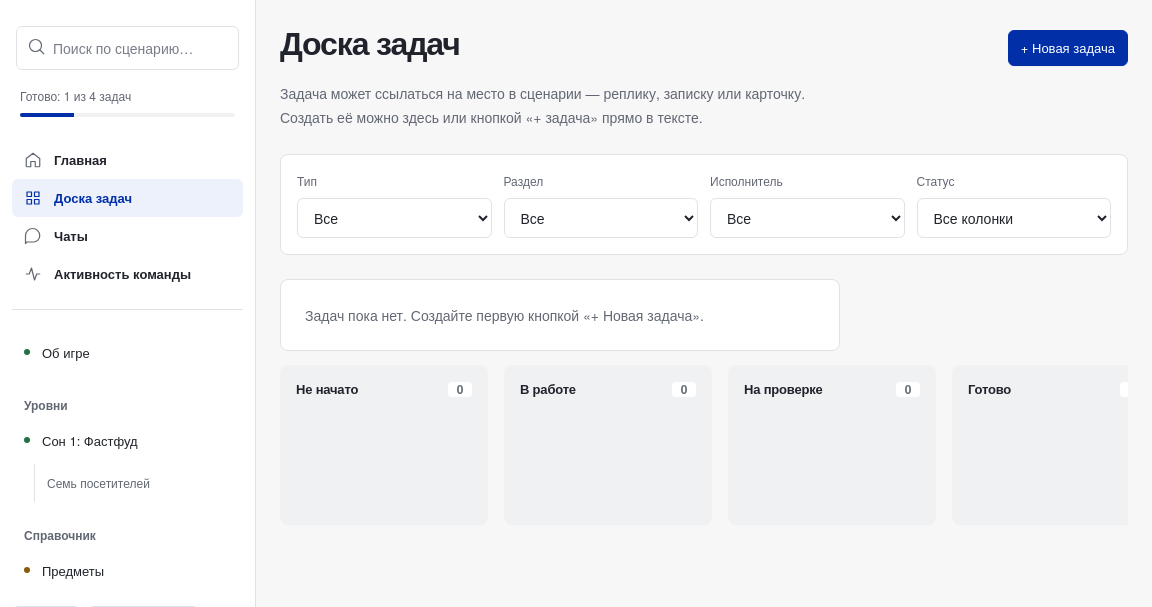
Scenario: TasksPage › creates a task with a description and an assignee
Click the button "+ Новая задача" at (1068, 48), box [1008, 30, 1128, 66]
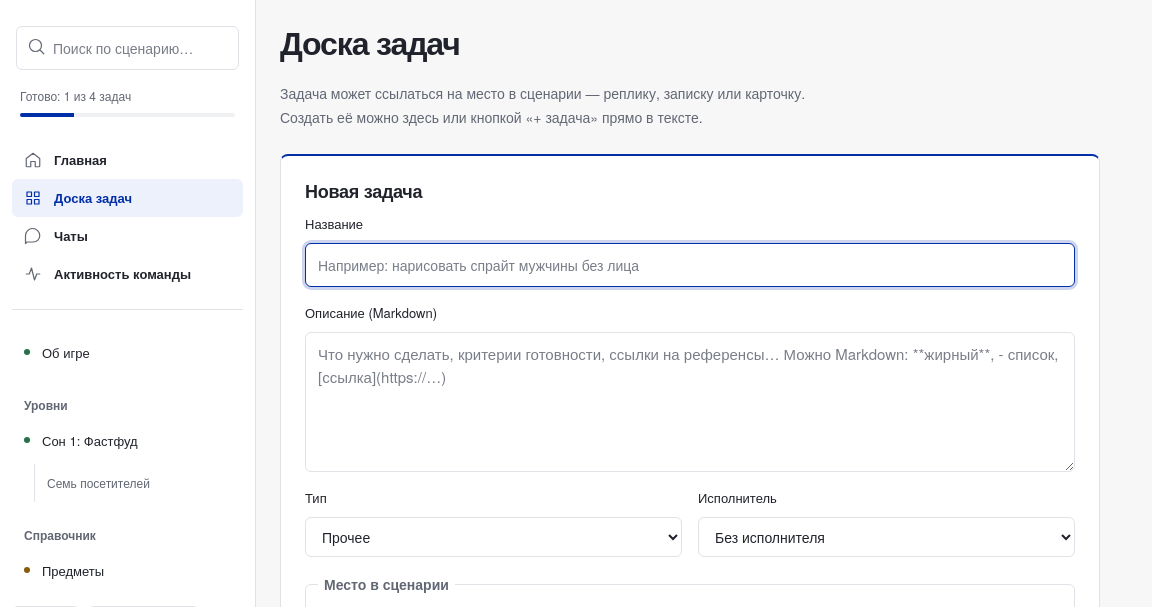
Type "Озвучить клоуна" into the field labelled "Название" at (690, 265), box [305, 243, 1075, 287]
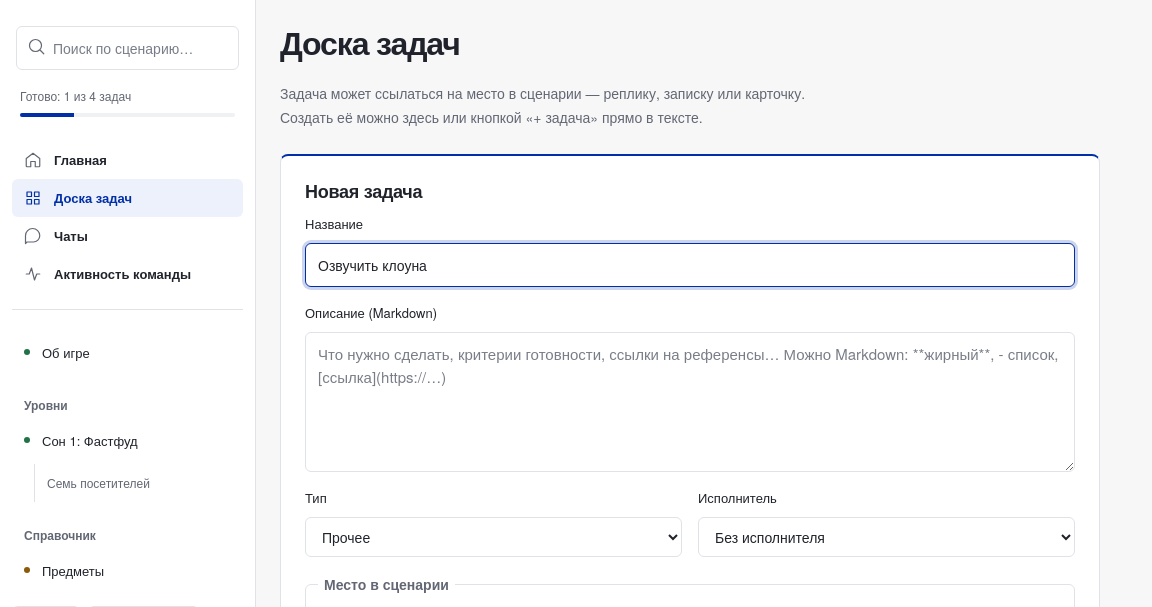
Type "Смех издалека, 3 варианта" into the text box labelled "Описание (Markdown)" at (690, 402), box [305, 332, 1075, 472]
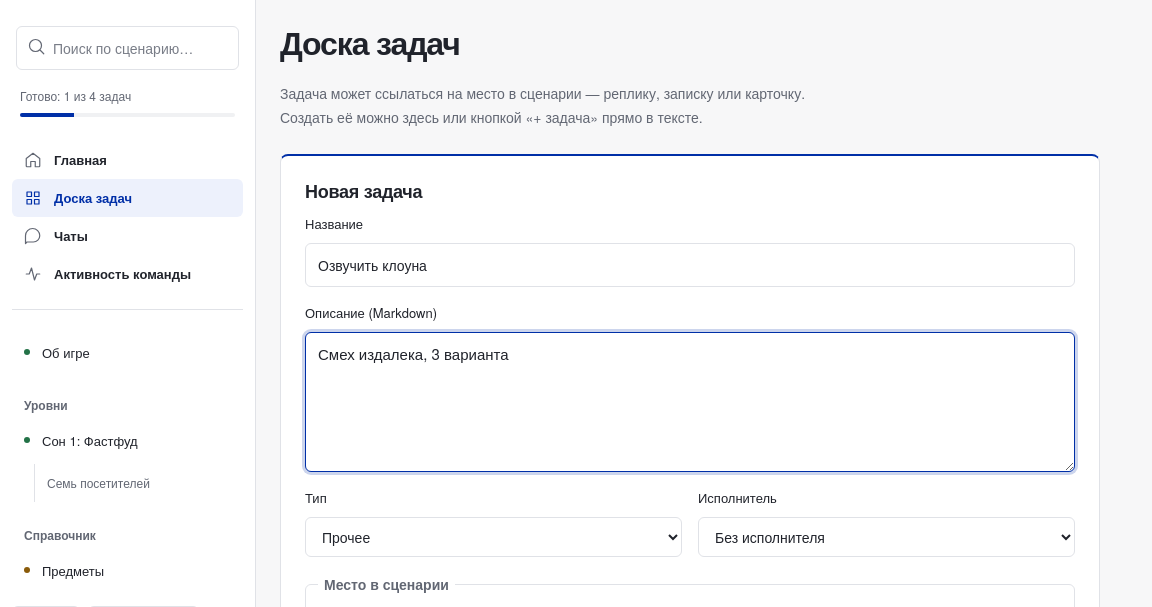
Select "Звук" in the dropdown labelled "Тип" at (494, 537), box [305, 517, 682, 557]
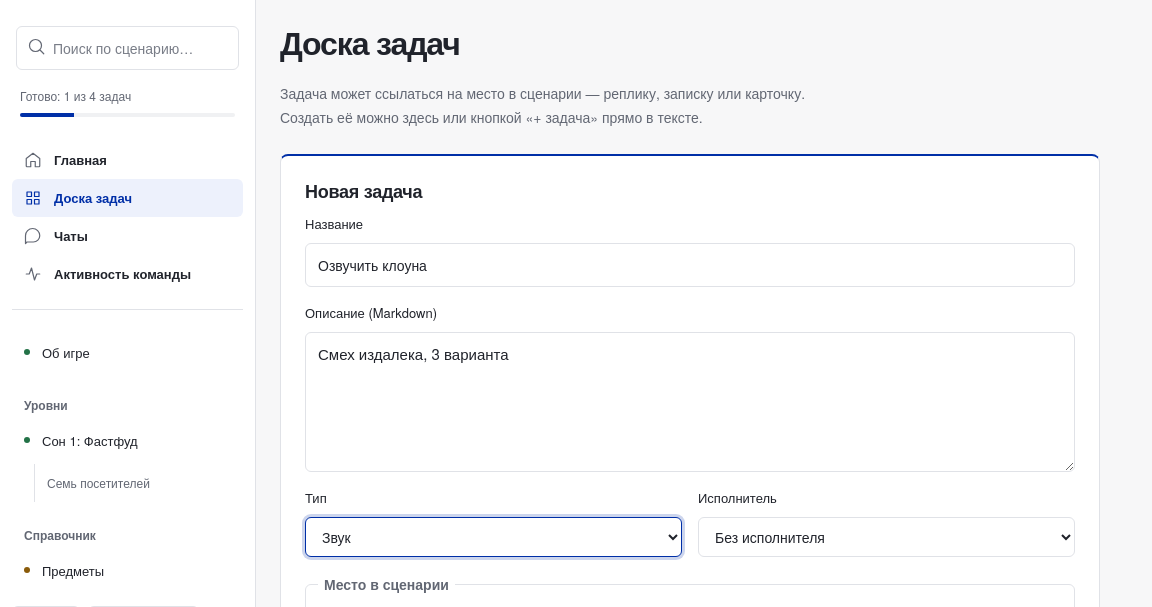
Select "Редактор" in the dropdown labelled "Исполнитель" at (886, 537), box [698, 517, 1075, 557]
(page scrolled)
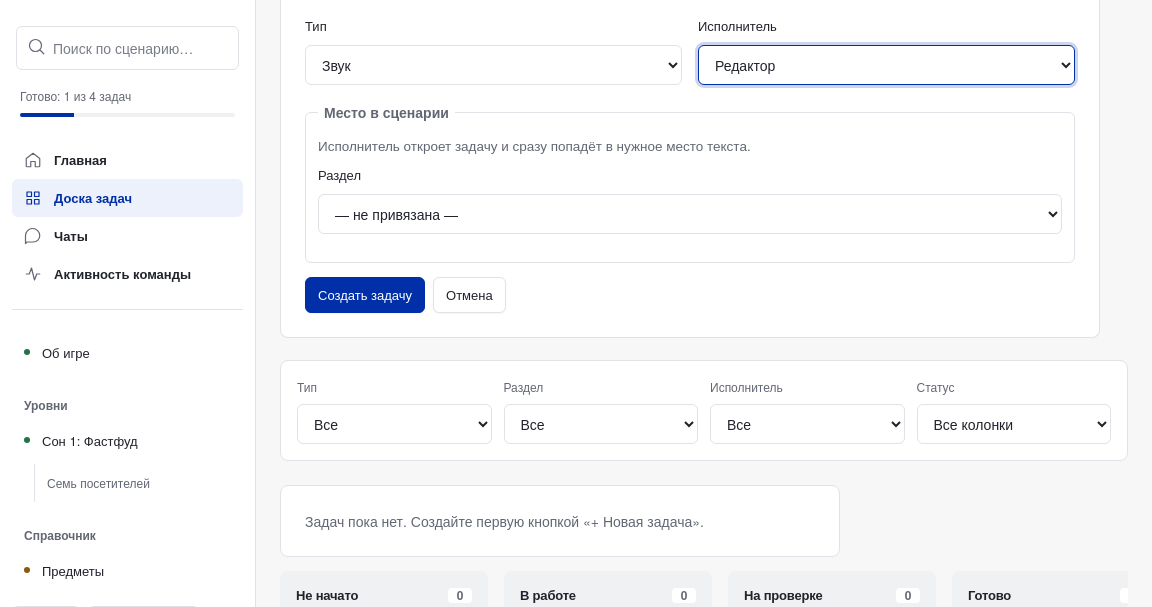
Click the button "Создать задачу" at (365, 295), box [305, 277, 425, 313]
(page scrolled)
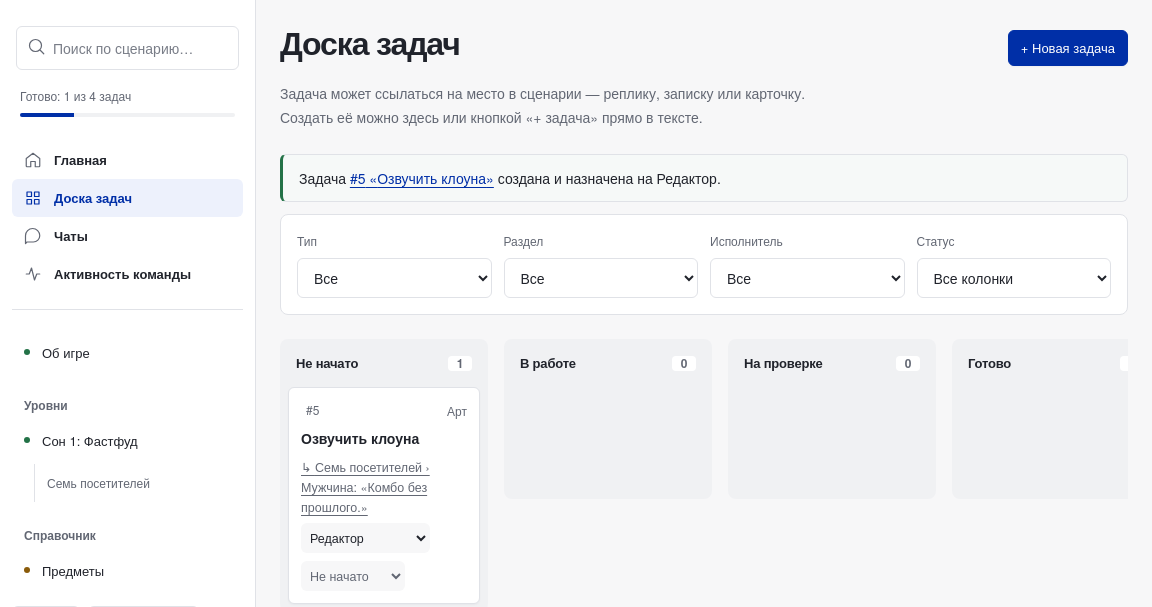
expect the message reads "Задача #5 «Озвучить клоуна» создана и назначена на Редактор.": met, box [280, 154, 1128, 202]
expect the link "Озвучить клоуна" is shown: met, box [301, 428, 419, 448]
